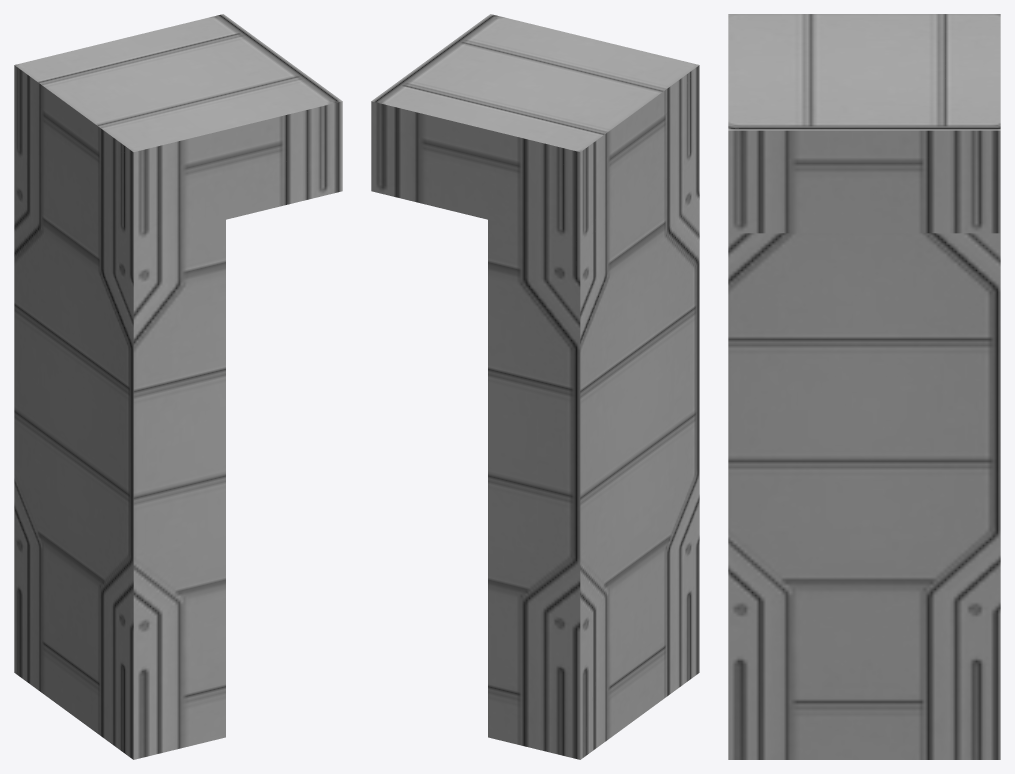
File: floor-lamp-2a0f83.glb
The picture shows the model from 3 angles, left to right: view 1: azimuth 30°, elevation 25°; view 2: azimuth 150°, elevation 25°; view 3: azimuth 270°, elevation 25°; orthographic projection. The views are drawn at different scales.
Parts seen in each view (by area): view 1: PropMesh; view 2: PropMesh; view 3: PropMesh.
Part boxes in pixels (bbox=[...]): PropMesh: bbox=[14, 14, 342, 759]; PropMesh: bbox=[371, 14, 699, 759]; PropMesh: bbox=[728, 14, 1000, 759].
Size of the model in its own units: 0.6481 by 1.8 by 0.64.
2 materials, 1 textured.
